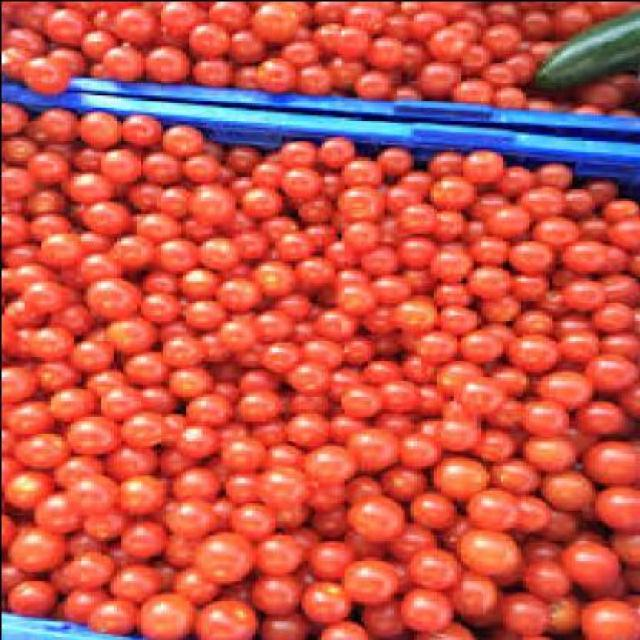BIODEGRADABLE: (526, 2, 637, 89), (184, 593, 261, 638), (122, 591, 195, 635), (72, 274, 142, 317), (426, 455, 494, 499), (3, 522, 63, 570), (2, 572, 72, 611), (157, 2, 215, 49), (198, 531, 247, 586), (578, 593, 636, 638), (387, 586, 448, 628), (534, 469, 600, 506), (330, 185, 396, 222), (491, 588, 544, 634), (446, 563, 488, 620), (238, 568, 300, 606), (1, 464, 54, 508), (532, 366, 590, 406), (46, 585, 116, 618), (346, 550, 396, 596), (518, 556, 571, 598), (162, 504, 222, 541), (98, 230, 158, 267), (581, 437, 636, 477), (311, 19, 366, 59), (60, 472, 112, 514), (76, 590, 126, 633), (399, 494, 455, 532), (115, 410, 168, 450), (484, 450, 530, 496), (330, 407, 379, 450), (350, 494, 392, 544), (241, 302, 293, 342), (1, 395, 54, 434), (591, 487, 637, 531), (504, 488, 550, 532), (343, 287, 389, 331), (521, 428, 577, 464), (109, 558, 162, 596), (109, 474, 162, 512), (353, 598, 412, 632), (462, 489, 512, 529), (90, 8, 152, 40), (406, 541, 452, 584), (350, 427, 396, 470), (561, 321, 607, 364), (504, 234, 550, 277), (86, 45, 146, 77), (458, 532, 511, 568), (564, 538, 614, 576), (33, 487, 76, 531), (265, 229, 326, 260), (307, 576, 347, 622), (63, 168, 109, 208), (12, 436, 66, 470), (571, 405, 626, 438), (581, 355, 636, 388), (46, 378, 92, 417), (68, 222, 122, 255), (72, 108, 116, 148), (258, 608, 316, 638), (505, 338, 557, 371), (168, 468, 218, 502), (432, 297, 482, 331), (178, 50, 228, 84), (138, 42, 182, 80), (96, 145, 142, 181), (62, 252, 122, 279), (525, 212, 577, 243), (462, 378, 508, 413), (307, 538, 347, 578), (540, 588, 578, 630), (102, 316, 146, 352), (158, 332, 202, 368), (264, 288, 313, 320), (60, 413, 106, 447), (386, 294, 432, 328), (40, 230, 86, 264), (182, 183, 224, 220), (76, 506, 126, 537), (218, 437, 267, 468), (30, 360, 79, 391), (290, 408, 327, 448), (96, 383, 136, 420), (561, 274, 607, 306), (512, 310, 558, 342), (20, 324, 66, 356), (261, 464, 304, 498), (26, 154, 69, 188), (287, 257, 339, 285), (116, 348, 164, 378), (172, 260, 214, 294), (164, 363, 202, 400), (406, 59, 448, 92), (376, 464, 422, 494), (185, 17, 228, 49), (571, 70, 614, 102), (29, 104, 66, 141), (600, 190, 637, 227), (343, 218, 380, 255), (389, 195, 426, 232), (254, 537, 294, 571), (333, 472, 373, 506), (218, 270, 258, 304), (23, 54, 63, 88), (349, 60, 389, 94), (297, 331, 340, 362), (464, 225, 502, 260), (138, 148, 176, 183), (587, 296, 627, 329), (228, 222, 268, 255), (538, 506, 580, 537), (416, 328, 458, 359), (126, 282, 174, 309), (67, 549, 105, 583), (224, 464, 258, 502), (438, 358, 476, 392), (138, 386, 176, 420), (66, 0, 152, 15), (182, 390, 228, 418), (436, 420, 476, 452), (26, 278, 66, 310), (574, 174, 614, 206), (62, 143, 102, 175), (0, 25, 40, 57), (564, 242, 601, 276), (426, 237, 460, 274), (46, 8, 83, 42), (254, 57, 291, 91), (330, 529, 376, 556), (360, 264, 406, 291), (420, 25, 466, 52), (476, 25, 522, 52), (597, 328, 637, 359), (521, 397, 561, 428), (287, 64, 327, 95), (504, 269, 548, 297), (284, 385, 333, 410), (386, 522, 422, 556), (118, 114, 156, 146), (210, 314, 248, 346), (194, 235, 232, 267), (310, 444, 350, 474), (82, 198, 132, 222), (504, 39, 534, 79), (488, 2, 542, 24), (154, 185, 186, 222), (237, 184, 274, 216), (249, 2, 291, 30), (298, 2, 354, 23), (360, 37, 402, 65), (402, 433, 436, 467), (464, 150, 498, 184), (452, 40, 486, 74), (339, 156, 376, 187), (426, 148, 460, 181), (597, 269, 637, 297), (2, 158, 30, 198), (254, 336, 294, 364), (399, 267, 439, 295), (277, 165, 317, 193), (168, 566, 205, 596), (339, 378, 376, 408), (178, 294, 215, 324), (2, 194, 26, 240), (376, 332, 422, 356), (175, 427, 214, 455), (472, 259, 502, 295), (478, 294, 518, 321), (231, 388, 280, 410), (203, 2, 251, 24), (309, 468, 340, 502), (478, 422, 512, 453), (69, 331, 103, 362), (122, 182, 156, 213), (323, 54, 357, 85), (227, 29, 261, 60), (80, 365, 122, 390), (2, 2, 49, 24), (2, 313, 23, 362), (530, 282, 568, 309), (382, 375, 413, 408), (0, 131, 37, 158), (26, 208, 63, 235), (501, 163, 532, 195), (614, 526, 637, 569), (280, 36, 311, 67), (264, 499, 301, 524), (0, 299, 37, 324), (534, 163, 571, 188), (310, 618, 356, 638), (273, 139, 307, 166), (2, 357, 26, 395), (154, 235, 192, 259), (331, 2, 374, 23), (271, 436, 297, 470), (248, 211, 290, 232), (380, 141, 402, 181), (454, 74, 486, 101), (247, 259, 281, 284), (320, 230, 346, 262), (393, 230, 419, 262), (462, 332, 496, 356), (231, 59, 257, 90), (234, 366, 274, 386), (429, 622, 478, 638), (550, 2, 578, 30), (309, 306, 340, 331), (200, 371, 232, 395), (554, 306, 584, 331), (379, 15, 413, 37), (379, 79, 416, 99), (287, 193, 330, 210), (482, 57, 508, 85), (396, 169, 426, 193), (2, 97, 23, 131), (287, 364, 321, 385), (360, 245, 386, 272), (319, 264, 353, 284), (336, 334, 367, 355), (165, 125, 188, 153), (607, 64, 630, 91), (412, 380, 432, 411), (257, 150, 277, 181), (2, 43, 23, 72), (438, 0, 478, 15), (3, 259, 40, 275), (376, 346, 399, 371), (611, 386, 637, 408), (221, 148, 247, 170), (2, 238, 30, 258), (332, 358, 363, 376), (323, 141, 346, 165), (0, 265, 17, 297), (522, 88, 548, 108), (362, 0, 393, 15), (422, 210, 448, 227), (560, 96, 594, 109), (492, 87, 514, 104), (531, 29, 554, 45), (398, 1, 429, 12), (198, 138, 215, 158), (1, 512, 10, 548), (132, 269, 166, 277), (608, 106, 623, 109)
